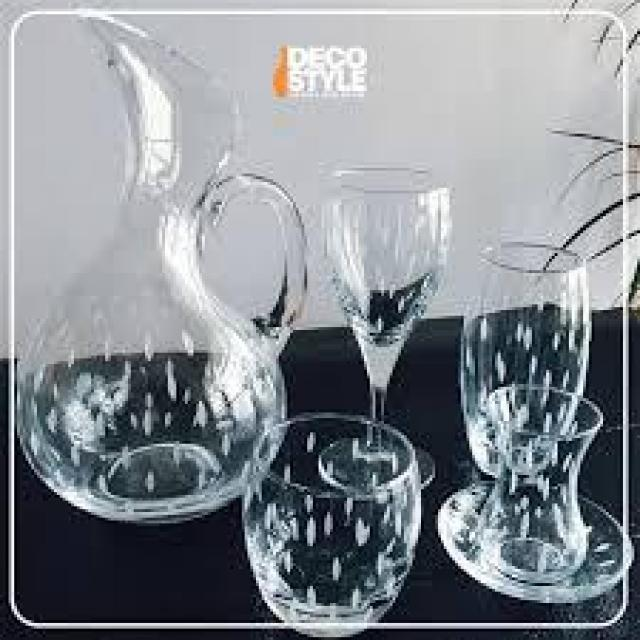non-organic waste: (3, 1, 310, 522), (437, 379, 636, 602), (323, 164, 454, 496), (240, 412, 422, 640)
